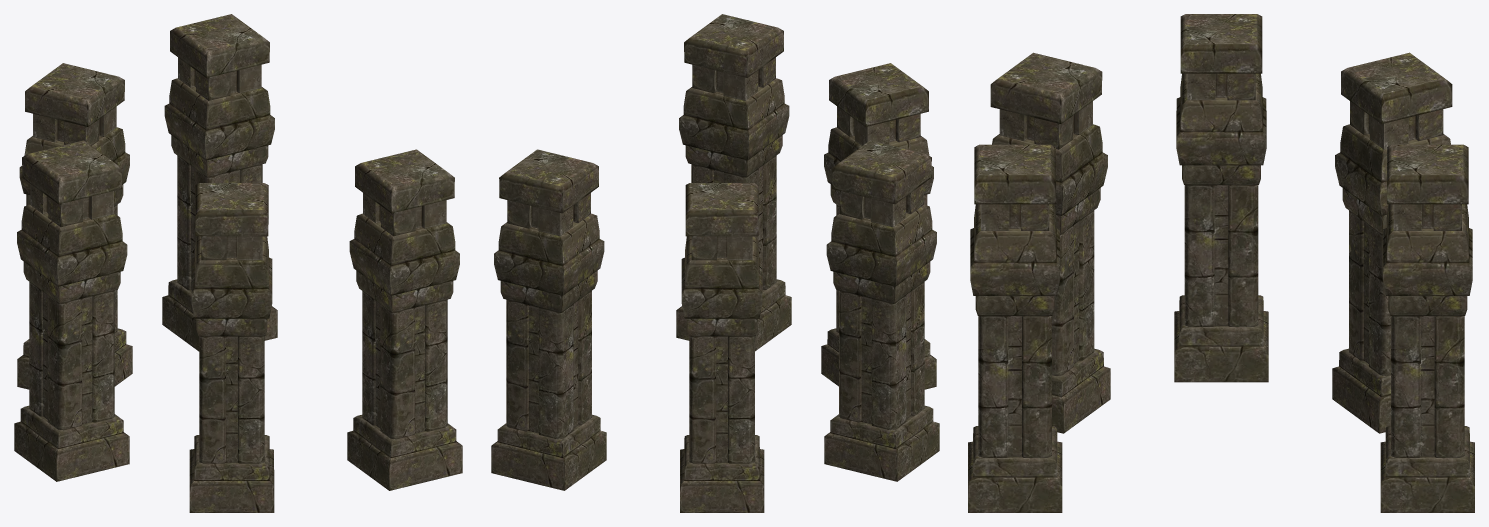
Rendered from Column_Group_01-transformed.glb.
3 views of the same model, side by side, from view 1: azimuth 30°, elevation 25°; view 2: azimuth 150°, elevation 25°; view 3: azimuth 270°, elevation 25° (orthographic). The views are drawn at different scales.
Parts seen in each view (by area): view 1: default; view 2: default; view 3: default.
Boxes of the visible parts, x1,y1,x2,y2 form: default: (14,14,462,512); default: (491,14,939,512); default: (968,14,1474,512).
Bounding box in the file's own units: 5.87 × 5.34 × 7.37.
Materials: 1 (1 with a texture image).
